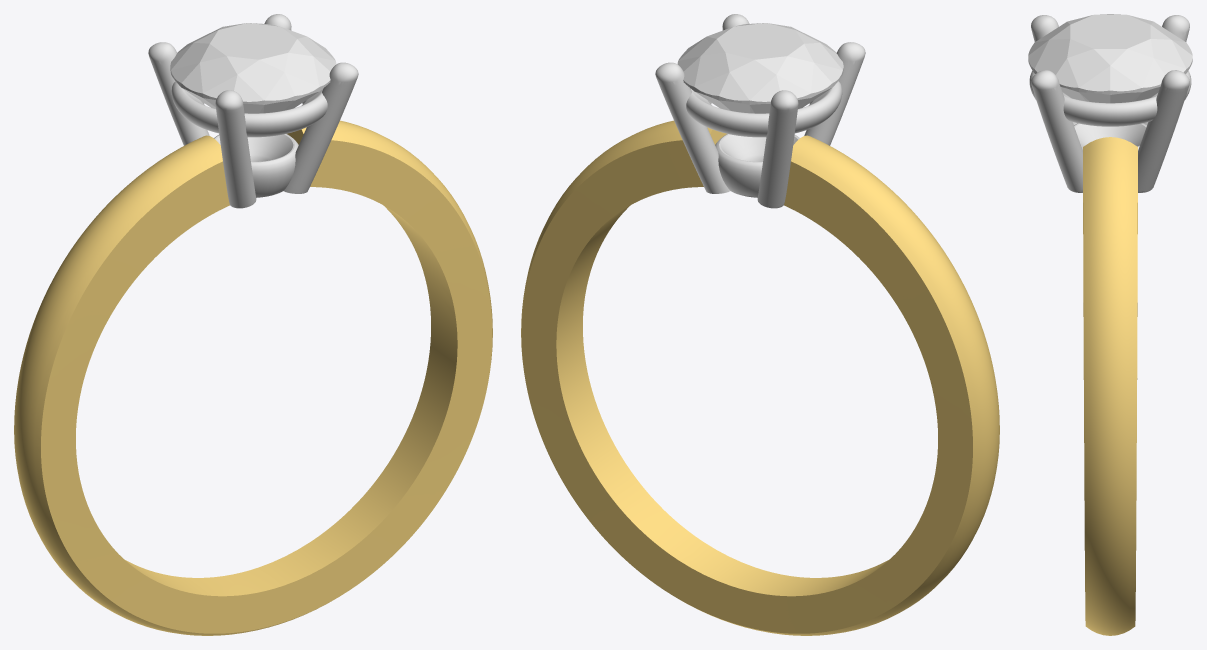
Rendered from PaulaV1solitaire_blender.glb.
3 views of the same model, side by side, from view 1: azimuth 30°, elevation 25°; view 2: azimuth 150°, elevation 25°; view 3: azimuth 270°, elevation 25° (orthographic).
Visible parts, largest first — view 1: Paula YG for 3d model, Paula PT for 3d model, Paula dia for 3d model; view 2: Paula YG for 3d model, Paula PT for 3d model, Paula dia for 3d model; view 3: Paula YG for 3d model, Paula dia for 3d model, Paula PT for 3d model.
Part boxes in pixels (x1=…): Paula YG for 3d model: x1=14, y1=120, x2=492, y2=635; Paula PT for 3d model: x1=148, y1=14, x2=358, y2=208; Paula dia for 3d model: x1=170, y1=23, x2=336, y2=113; Paula YG for 3d model: x1=521, y1=120, x2=999, y2=635; Paula PT for 3d model: x1=655, y1=14, x2=865, y2=208; Paula dia for 3d model: x1=677, y1=23, x2=843, y2=113; Paula YG for 3d model: x1=1083, y1=137, x2=1137, y2=635; Paula dia for 3d model: x1=1028, y1=14, x2=1192, y2=103; Paula PT for 3d model: x1=1029, y1=15, x2=1191, y2=192.
Size of the model in its own units: 19.5 by 23.31 by 6.
